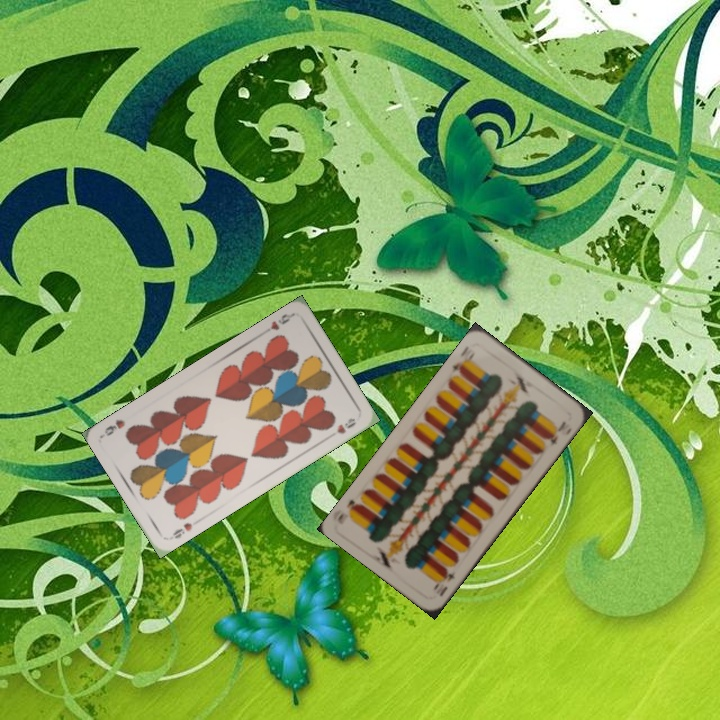E10: (448, 342, 478, 377), (429, 565, 458, 592)
H9: (259, 309, 295, 337), (169, 518, 195, 541)
